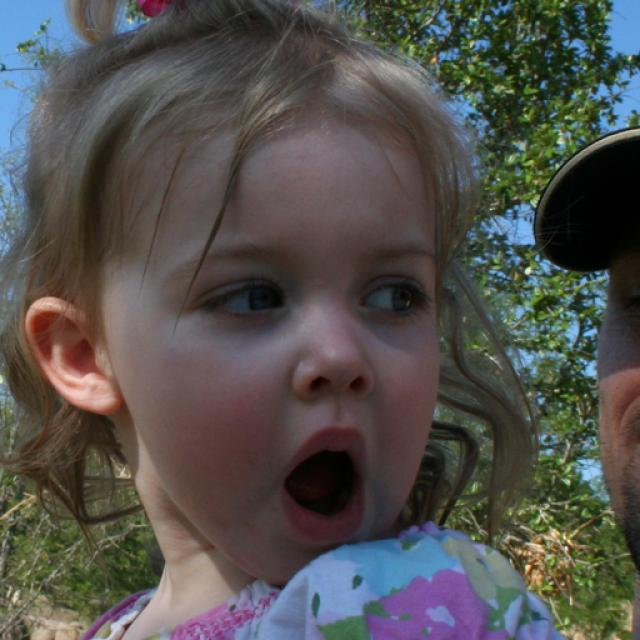surprise: (102, 89, 442, 590)
